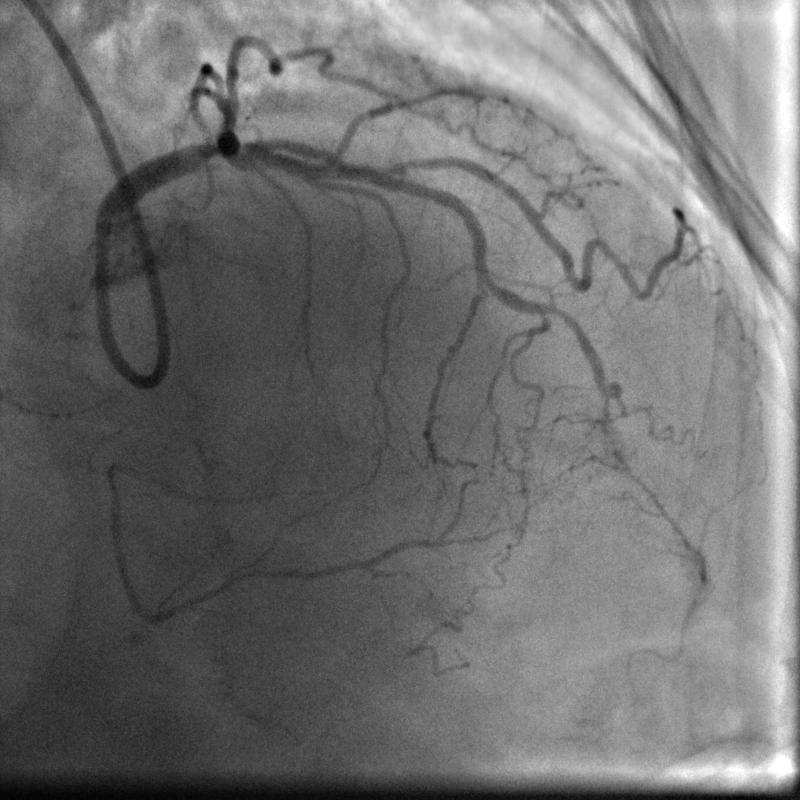Stenosis: (191, 128, 228, 177)
